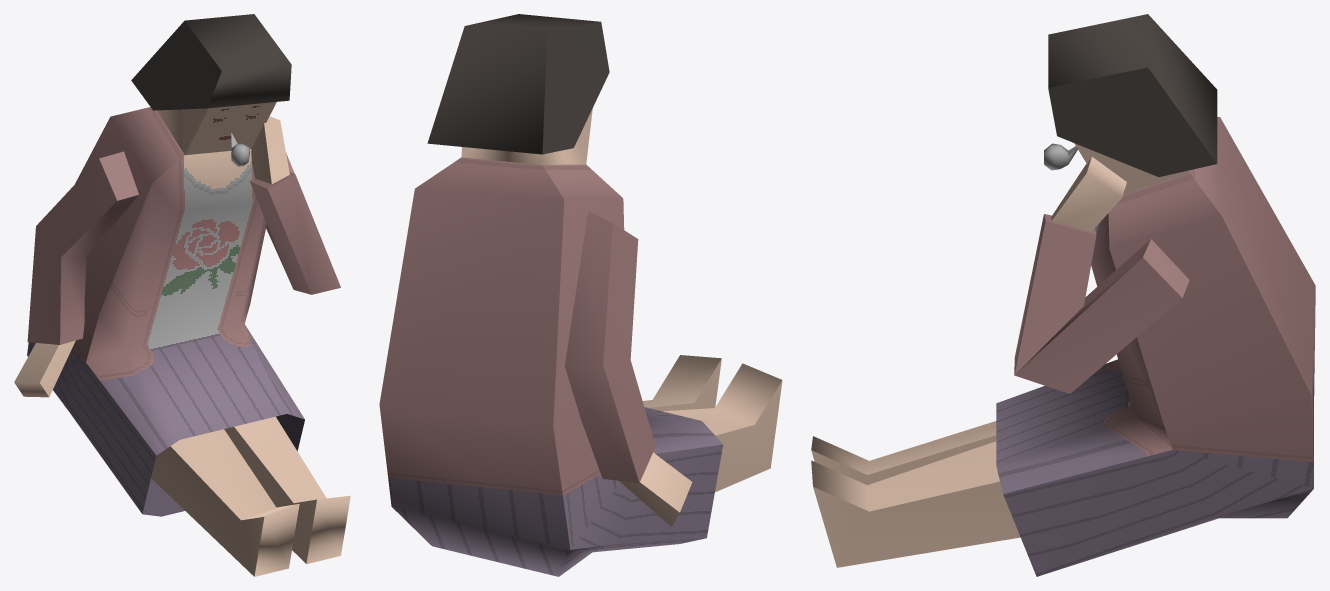
The model's file is 0211_Snoozing_Momma.glb.
3 views of the same model, side by side, from view 1: azimuth 30°, elevation 25°; view 2: azimuth 150°, elevation 25°; view 3: azimuth 270°, elevation 25° (orthographic). The views are drawn at different scales.
Visible parts, largest first — view 1: part_0; view 2: part_0; view 3: part_0.
Boxes of the visible parts, x1=… form: part_0: x1=14, y1=14, x2=350, y2=576; part_0: x1=379, y1=14, x2=782, y2=576; part_0: x1=811, y1=14, x2=1315, y2=576.
Bounding box in the file's own units: 0.5339 × 0.9297 × 0.7902.
1 material, 1 textured.
